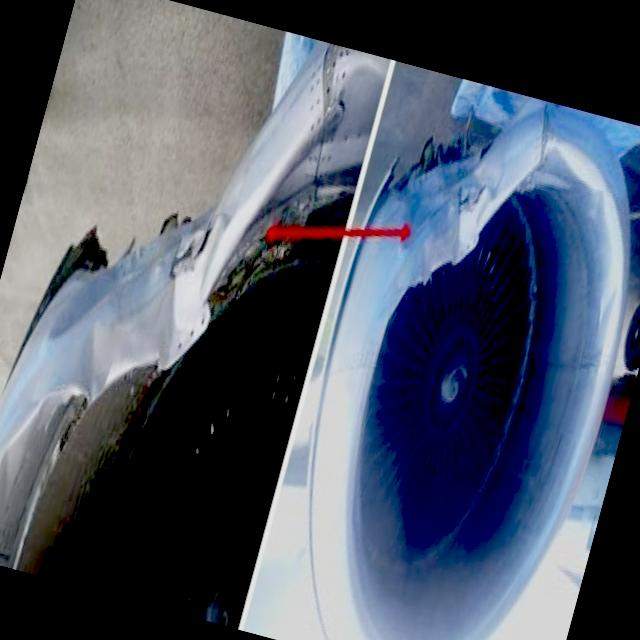dent: (70, 316, 126, 404)
